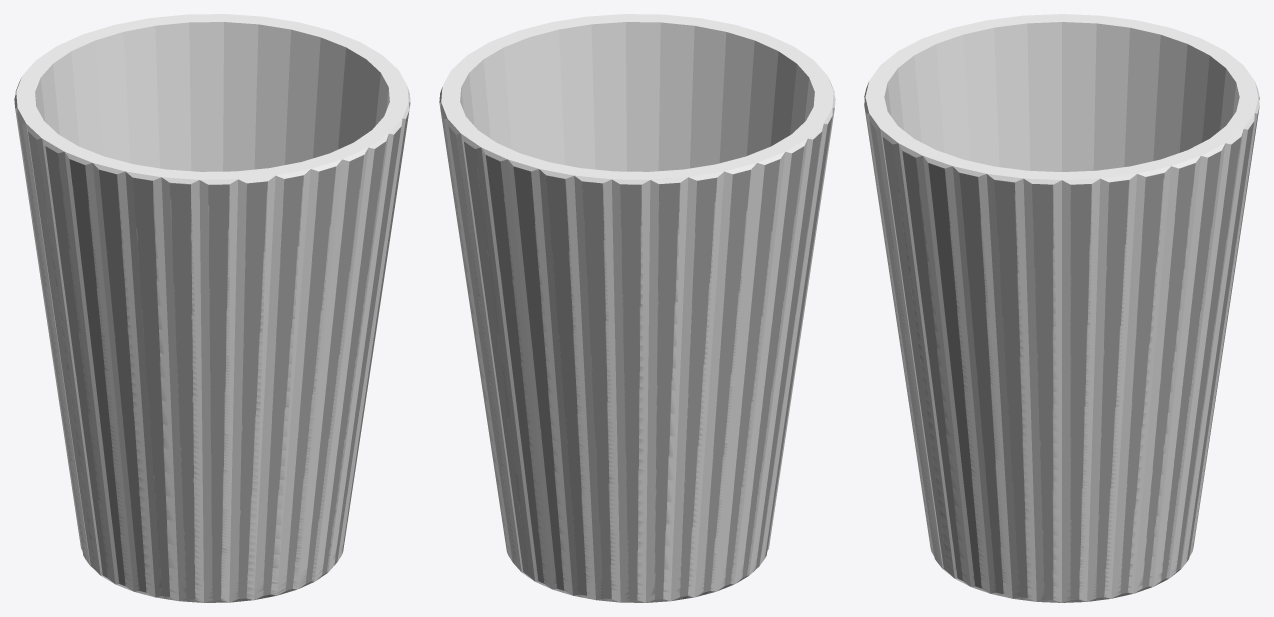
File: Glass1.fbx
3 renders of one model, left to right at view 1: azimuth 30°, elevation 25°; view 2: azimuth 150°, elevation 25°; view 3: azimuth 270°, elevation 25°, orthographic.
Visible parts, largest first — view 1: Circle; view 2: Circle; view 3: Circle.
Part boxes in pixels (left/top/right/bottom): Circle: left=14, top=14, right=410, bottom=602; Circle: left=439, top=14, right=835, bottom=602; Circle: left=864, top=14, right=1259, bottom=602.
Size of the model in its own units: 1.75 by 1.75 by 2.2.
1 material, 1 textured.
